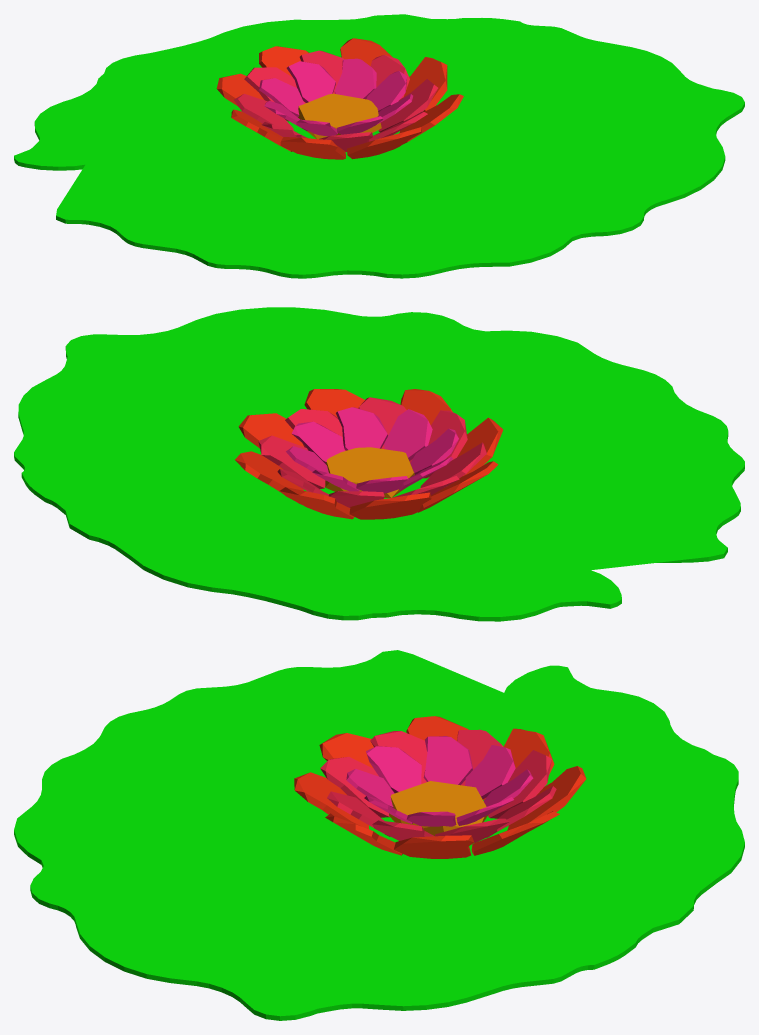
Rendered from lokvanj 3.fbx.
The picture shows the model from 3 angles, top to bottom: view 1: azimuth 30°, elevation 25°; view 2: azimuth 150°, elevation 25°; view 3: azimuth 270°, elevation 25°; orthographic projection. The views are drawn at different scales.
Visible parts, largest first — view 1: Cylinder.002; view 2: Cylinder.002; view 3: Cylinder.002.
Boxes of the visible parts, left/top/right/bottom form: Cylinder.002: left=14, top=14, right=744, bottom=278; Cylinder.002: left=14, top=307, right=744, bottom=621; Cylinder.002: left=14, top=650, right=744, bottom=1020.
Size of the model in its own units: 361 by 29.84 by 304.
